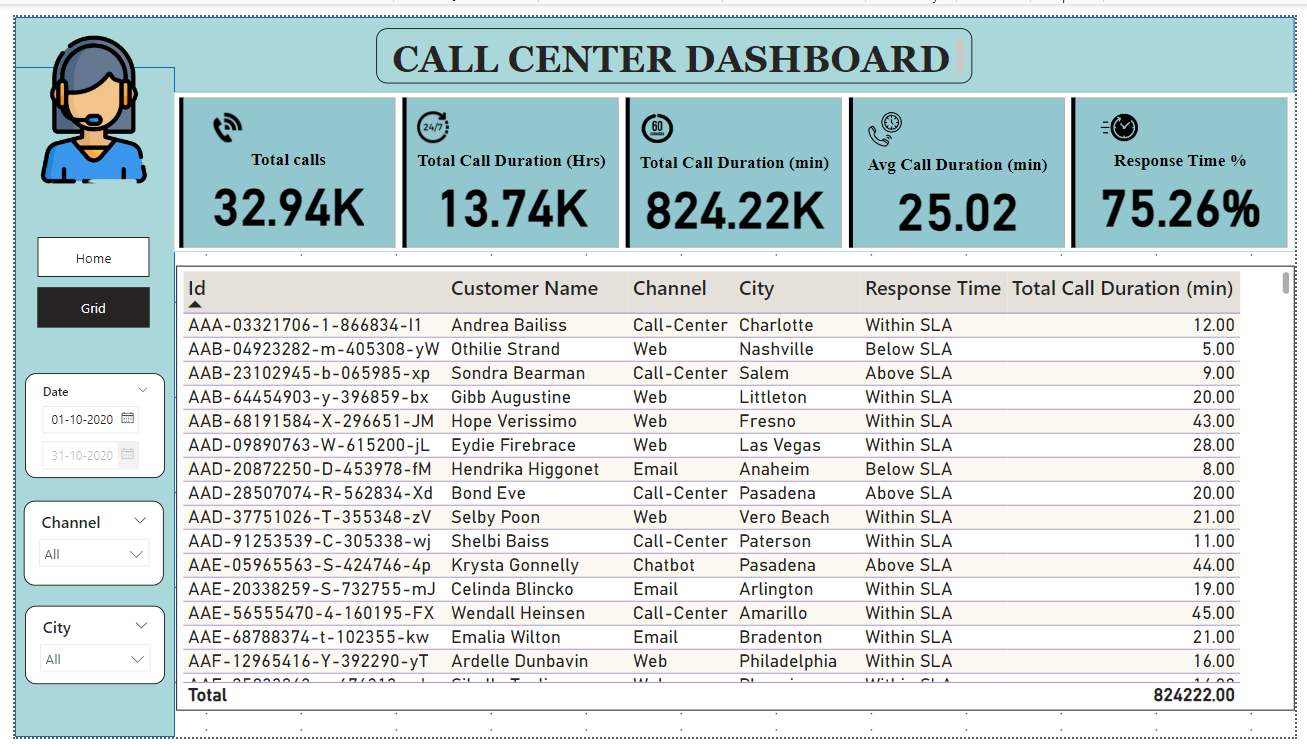

What the dashboard file says about the page in this screenshot:
{"tool":"powerbi","page":{"name":"Grid","canvas":[1280,720],"ordinal":1},"visuals":[{"type":"shape","box":[0,0,1279.6,75.9],"z":0},{"type":"shape","box":[0,50,160,670],"z":1000},{"type":"cardVisual","fields":{"Data":["Call Center_Call Center.Total calls","Call Center_Call Center.Total Call Duration (Hrs)","Call Center_Call Center.Total Call Duration (min)","Call Center_Call Center.Avg Call Duration (min)","Call Center_Call Center.Response Time %"]},"box":[158.6,75.1,1121.6,160],"z":2000},{"type":"slicer","title":"Date","fields":{"Values":["Data Table.Date"]},"box":[10,356.7,140,105],"z":3000},{"type":"slicer","title":"Date","fields":{"Values":["Call Center_Call Center.Channel"]},"box":[8.3,483.3,140,85],"z":4000},{"type":"slicer","title":"Date","fields":{"Values":["Call Center_Call Center.City"]},"box":[10,588.3,140,78.3],"z":5000},{"type":"image","box":[0,11.1,157.4,163],"z":6000},{"type":"tableEx","fields":{"Values":["Call Center_Call Center.Id","Call Center_Call Center.Customer Name","Call Center_Call Center.Channel","Call Center_Call Center.City","Call Center_Call Center.Response Time","Call Center_Call Center.Total Call Duration (min)"]},"box":[161.1,248.1,1118.5,444.4],"z":8000},{"type":"textbox","box":[361.1,11.1,596.3,55.6],"z":9000},{"type":"pageNavigator","box":[22.2,220.4,113,90.7],"z":10000}]}

Visuals, with their boxes in screenshot pixels (x1, y1, x2, y2), scaled from the page's 1280x720 canvas onto the 1307x744 screenshot:
shape: bbox(0, 0, 1306, 78)
shape: bbox(0, 52, 163, 743)
cardVisual - Call Center_Call Center.Total calls x Call Center_Call Center.Total Call Duration (Hrs): bbox(162, 78, 1306, 243)
"Date" slicer: bbox(10, 369, 153, 477)
"Date" slicer: bbox(8, 499, 151, 587)
"Date" slicer: bbox(10, 608, 153, 689)
image: bbox(0, 11, 161, 180)
tableEx - Call Center_Call Center.Id x Call Center_Call Center.Customer Name: bbox(164, 256, 1306, 716)
textbox: bbox(369, 11, 978, 69)
pageNavigator: bbox(23, 228, 138, 321)
